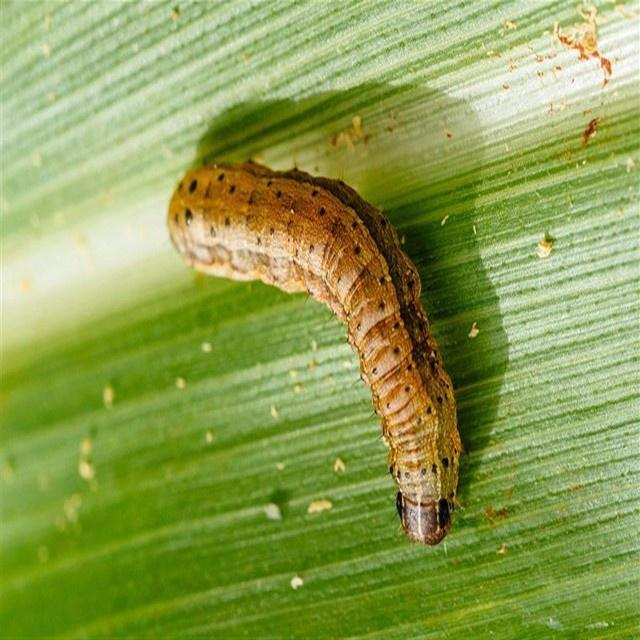yellow-stem-borer-larva: (135, 137, 521, 574)
